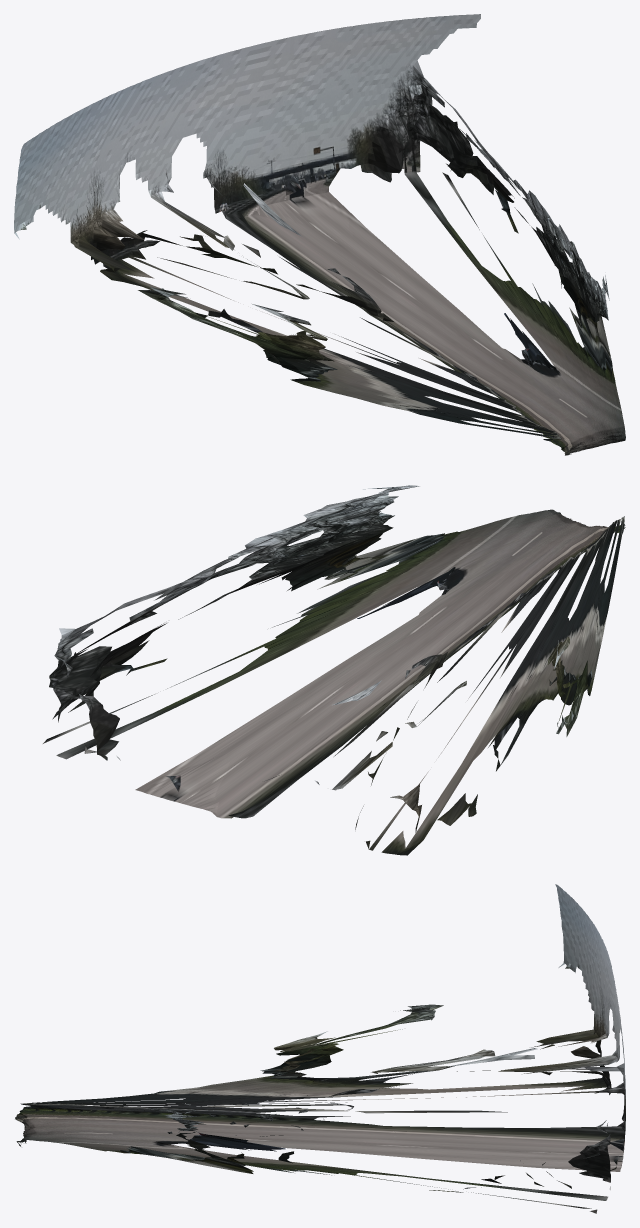
The picture shows the model from 3 angles, top to bottom: view 1: azimuth 30°, elevation 25°; view 2: azimuth 150°, elevation 25°; view 3: azimuth 270°, elevation 25°; orthographic projection. The views are drawn at different scales.
Visible parts, largest first — view 1: defaultobject; view 2: defaultobject; view 3: defaultobject.
Boxes of the visible parts, x1,y1,x2,y2 form: defaultobject: (14, 14, 625, 455); defaultobject: (43, 485, 625, 855); defaultobject: (15, 884, 625, 1213).
Size of the model in its own units: 35.86 by 13 by 44.81.
Materials: 1 (1 with a texture image).
